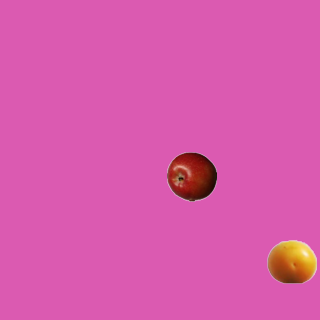Apple Braeburn: (166, 151, 216, 201)
Cherry Wax Yellow: (266, 236, 316, 286)
